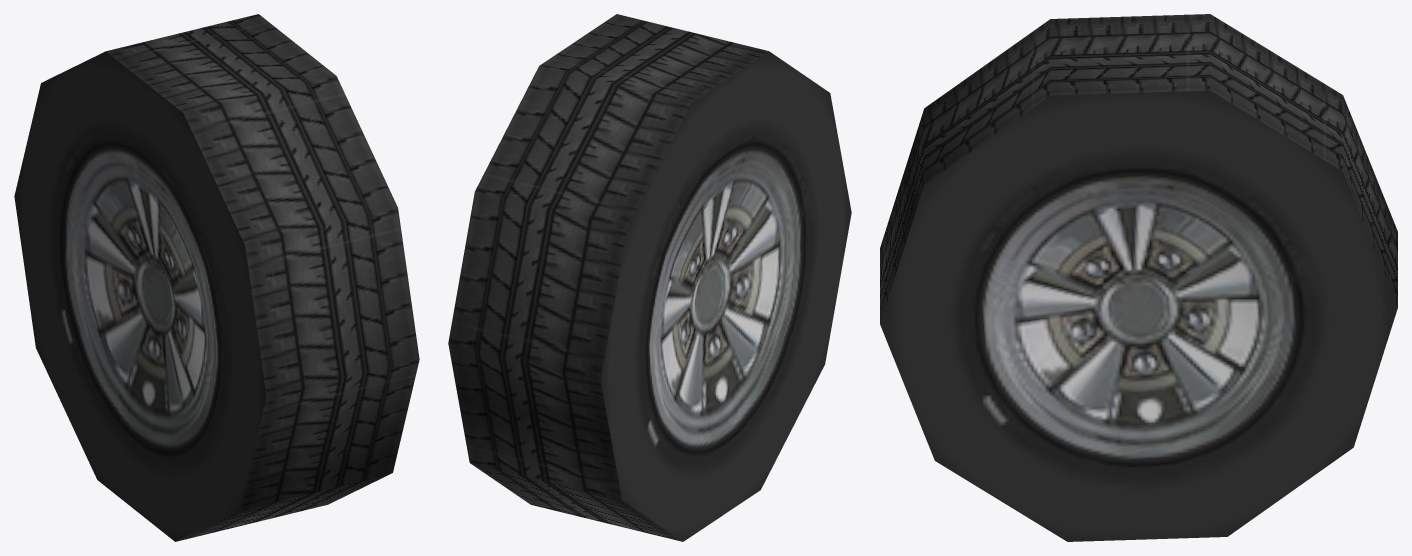
The model's file is WheelHotRod.FBX.
3 renders of one model, left to right at view 1: azimuth 30°, elevation 25°; view 2: azimuth 150°, elevation 25°; view 3: azimuth 270°, elevation 25°, orthographic. The views are drawn at different scales.
Parts seen in each view (by area): view 1: wheelHotRod001; view 2: wheelHotRod001; view 3: wheelHotRod001.
Part boxes in pixels (bbox=[...]): wheelHotRod001: bbox=[14, 14, 419, 541]; wheelHotRod001: bbox=[448, 14, 851, 541]; wheelHotRod001: bbox=[880, 14, 1397, 541].
Size of the model in its own units: 24.99 by 71.33 by 68.61.
